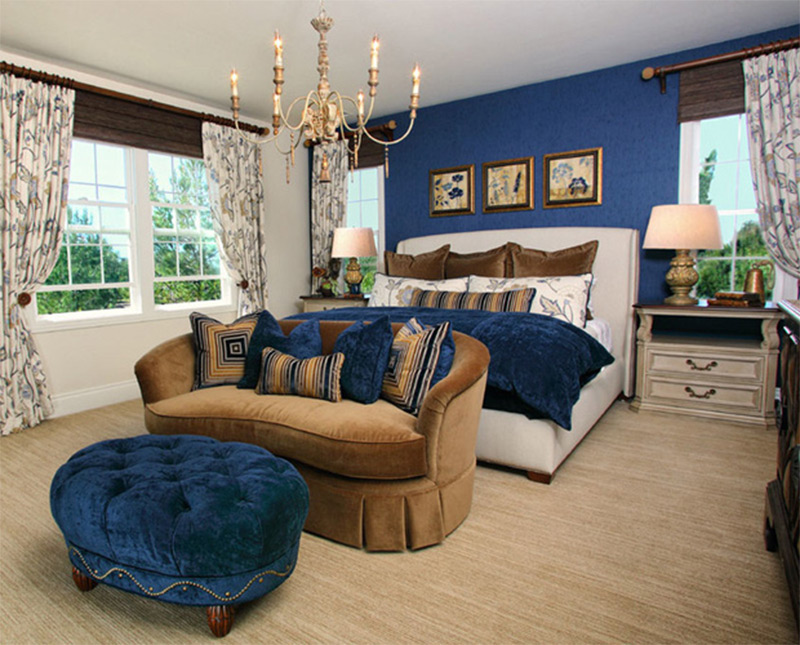chairs: (129, 318, 498, 557), (48, 439, 307, 636)
